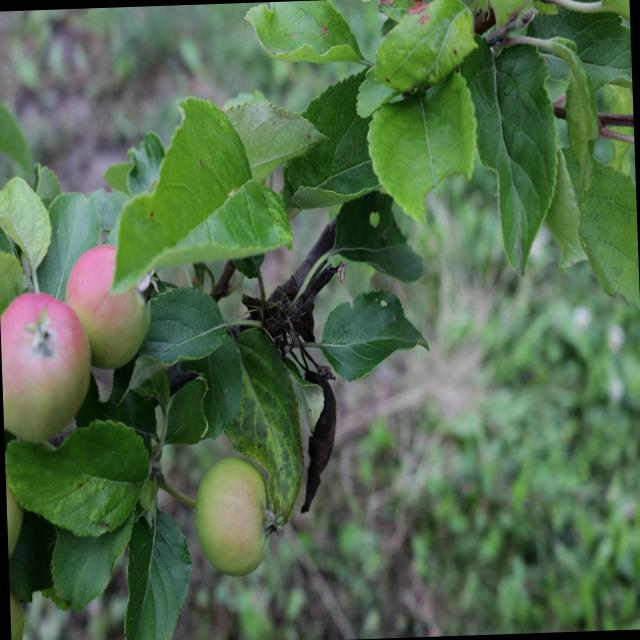-FireBlight-: (294, 325, 345, 508)
